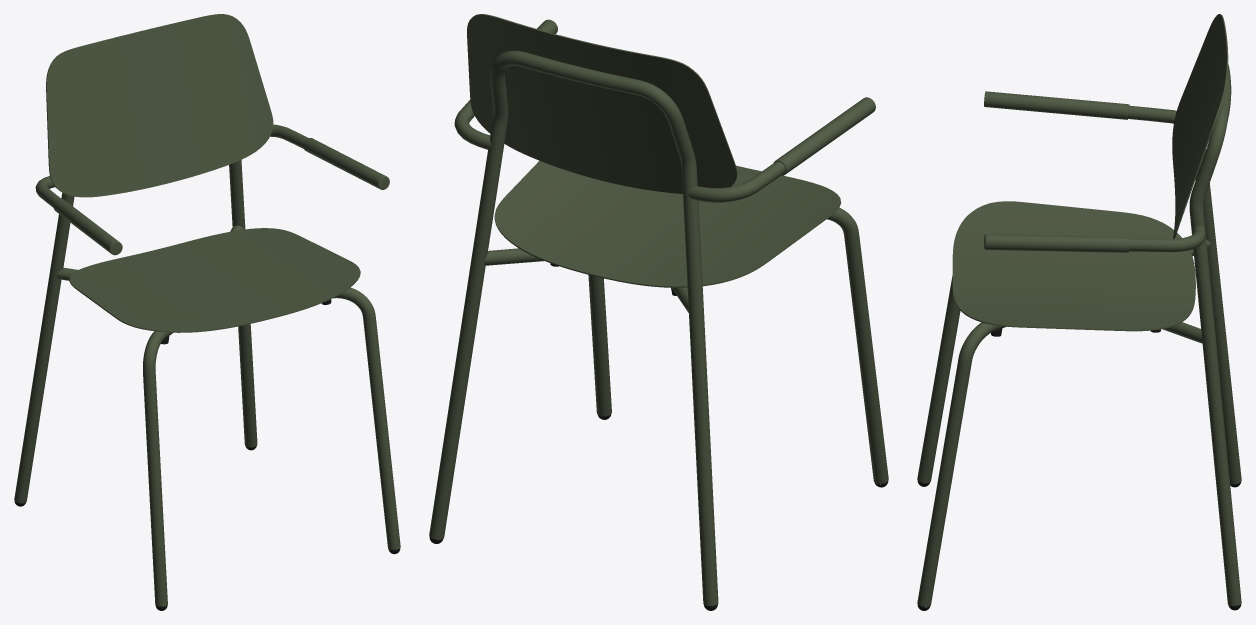
File: element-arm.glb
3 renders of one model, left to right at view 1: azimuth 30°, elevation 25°; view 2: azimuth 150°, elevation 25°; view 3: azimuth 270°, elevation 25°, orthographic. The views are drawn at different scales.
Visible parts, largest first — view 1: rb_chair_element_black; view 2: rb_chair_element_black; view 3: rb_chair_element_black.
Boxes of the visible parts, x1=… form: rb_chair_element_black: x1=14, y1=14, x2=400, y2=610; rb_chair_element_black: x1=429, y1=14, x2=888, y2=610; rb_chair_element_black: x1=917, y1=14, x2=1241, y2=610.
Size of the model in its own units: 0.5373 by 0.8238 by 0.4929.
